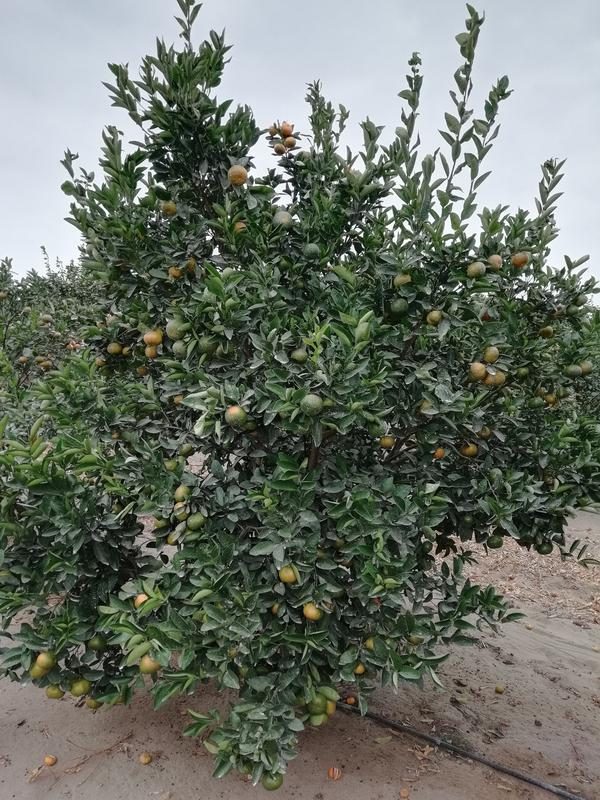mandarina naranja: (228, 165, 247, 185), (303, 603, 321, 620), (468, 262, 486, 278), (279, 567, 297, 583), (144, 330, 162, 345), (511, 252, 529, 267), (459, 443, 478, 457), (486, 254, 502, 270), (470, 362, 484, 379), (485, 346, 499, 362), (144, 345, 160, 358), (108, 343, 123, 355), (379, 436, 394, 448), (281, 123, 294, 136), (284, 137, 296, 147), (274, 144, 285, 154)
mandarina verde: (299, 394, 323, 416), (262, 772, 282, 791), (226, 407, 246, 425), (274, 211, 293, 229), (140, 655, 159, 673), (307, 695, 325, 713), (37, 652, 56, 669), (70, 680, 89, 696), (188, 512, 204, 529), (391, 298, 409, 313), (46, 686, 66, 699), (172, 339, 186, 357), (304, 243, 319, 258), (291, 348, 307, 362), (566, 365, 582, 377), (487, 537, 503, 549), (582, 361, 594, 376), (537, 544, 553, 555), (565, 305, 579, 316)
